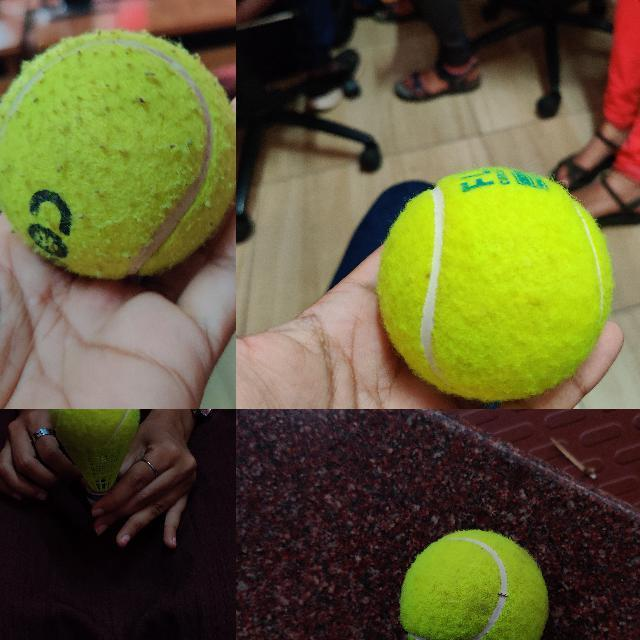tennis-ball: (0, 31, 235, 280), (379, 169, 612, 399), (399, 529, 549, 639), (51, 409, 139, 438)
